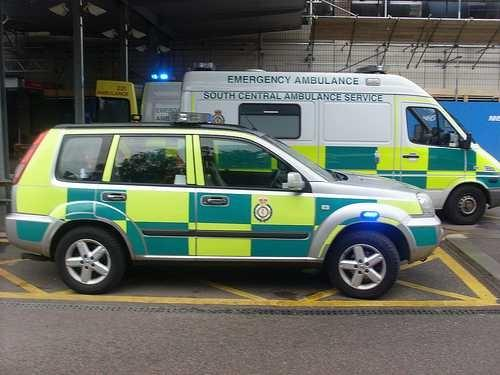car: (4, 112, 446, 298)
